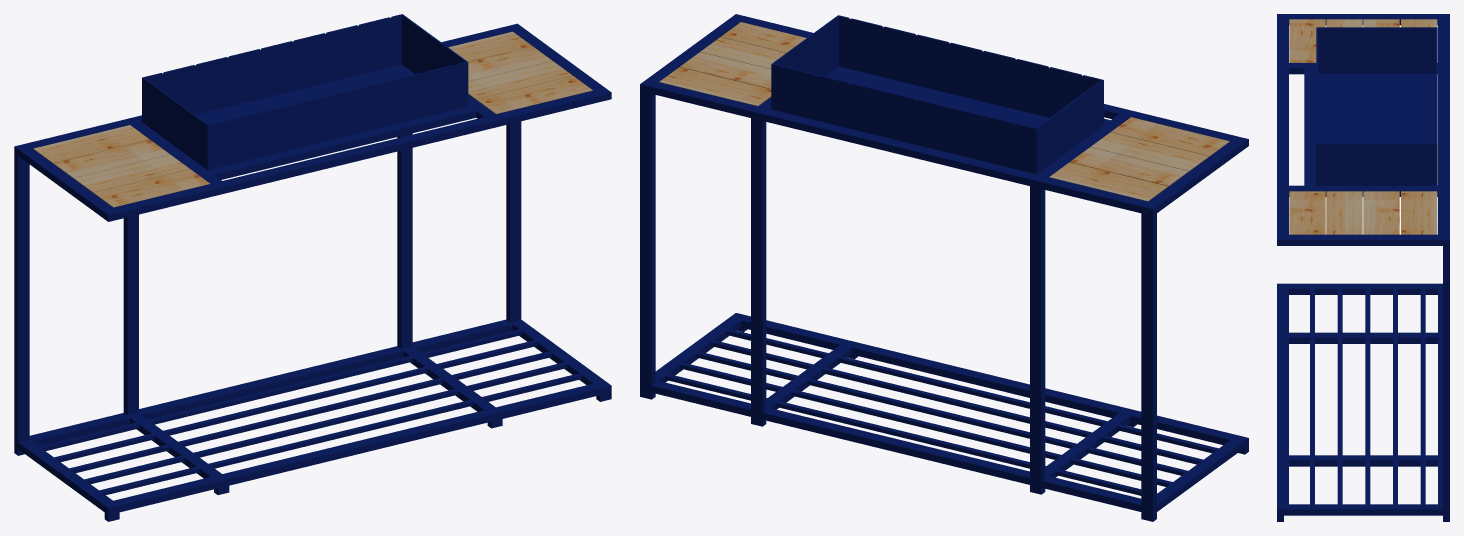
The picture shows the model from 3 angles, left to right: view 1: azimuth 30°, elevation 25°; view 2: azimuth 150°, elevation 25°; view 3: azimuth 270°, elevation 25°; orthographic projection. The views are drawn at different scales.
Parts seen in each view (by area): view 1: geometry-lumionModel, geometry-lumionModel.001; view 2: geometry-lumionModel, geometry-lumionModel.001; view 3: geometry-lumionModel, geometry-lumionModel.001.
Part boxes in pixels (bbox=[...]): geometry-lumionModel: bbox=[14, 14, 611, 521]; geometry-lumionModel.001: bbox=[33, 31, 592, 207]; geometry-lumionModel: bbox=[640, 14, 1248, 521]; geometry-lumionModel.001: bbox=[659, 22, 1229, 201]; geometry-lumionModel: bbox=[1277, 14, 1449, 521]; geometry-lumionModel.001: bbox=[1289, 19, 1437, 234].
Bounding box in the file's own units: 1.55 × 1.03 × 0.5.
Materials: 2 (1 with a texture image).
